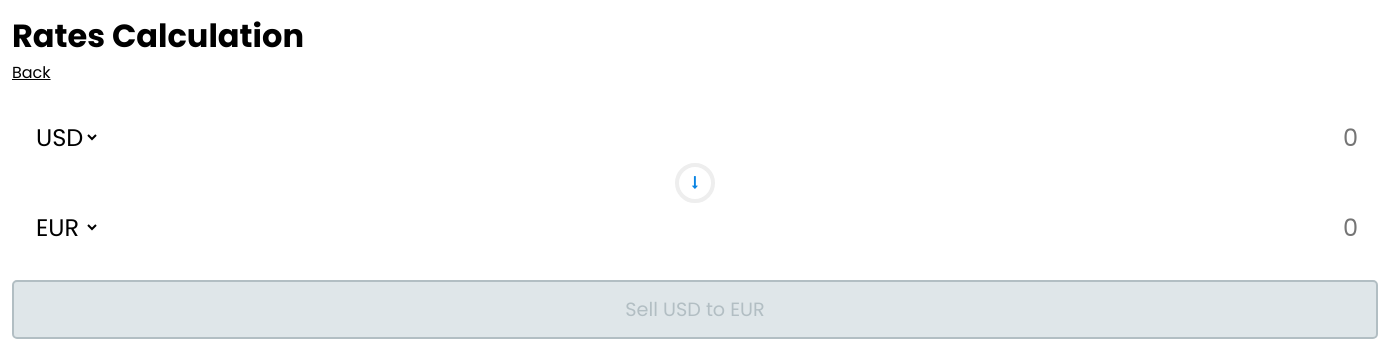
it: ExchangeScreen › currencyInput › Replace dot for comma on value
Type "33.02" into the 1st field with placeholder "0" at coordinates (1126, 138), box [895, 120, 1358, 155]
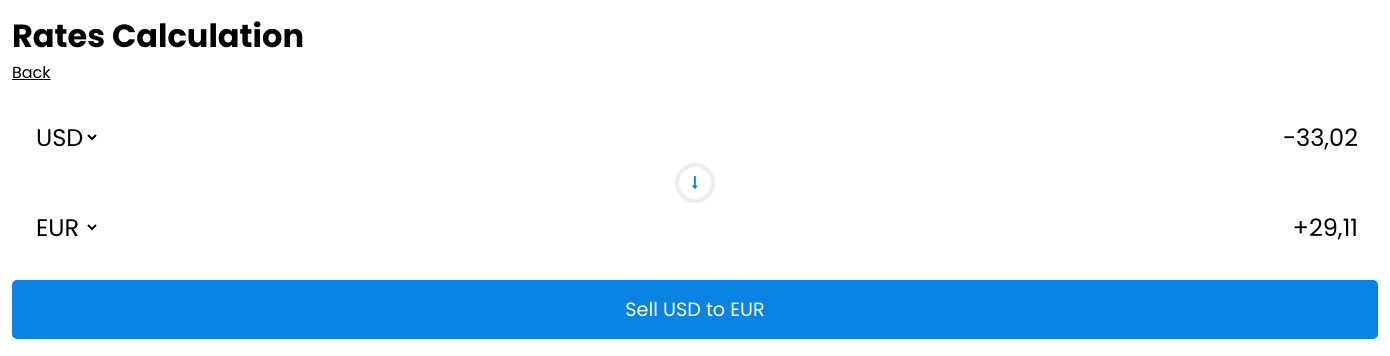
Result: the 1st field holds "-33,02" at [895, 120, 1358, 155]
Write 33.02 on bot
Replace the text in the 2nd field with "33.02" at coordinates (1126, 228), box [895, 210, 1358, 245]
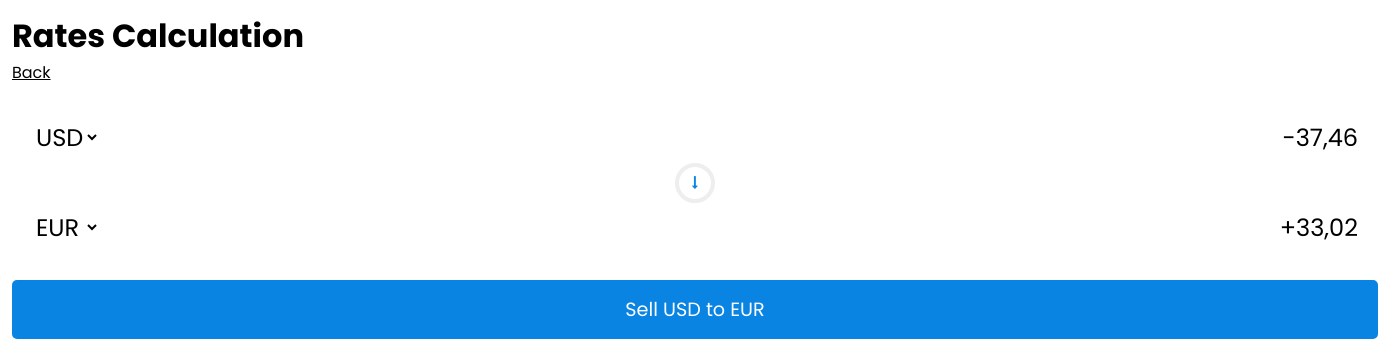
Result: the 2nd field holds "+33,02" at [895, 210, 1358, 245]
